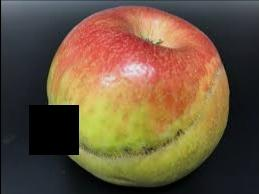rotten apple: (42, 4, 233, 185)
